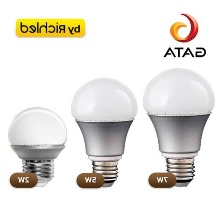light_bulb: (140, 65, 218, 190), (69, 72, 138, 191), (3, 102, 68, 190)
